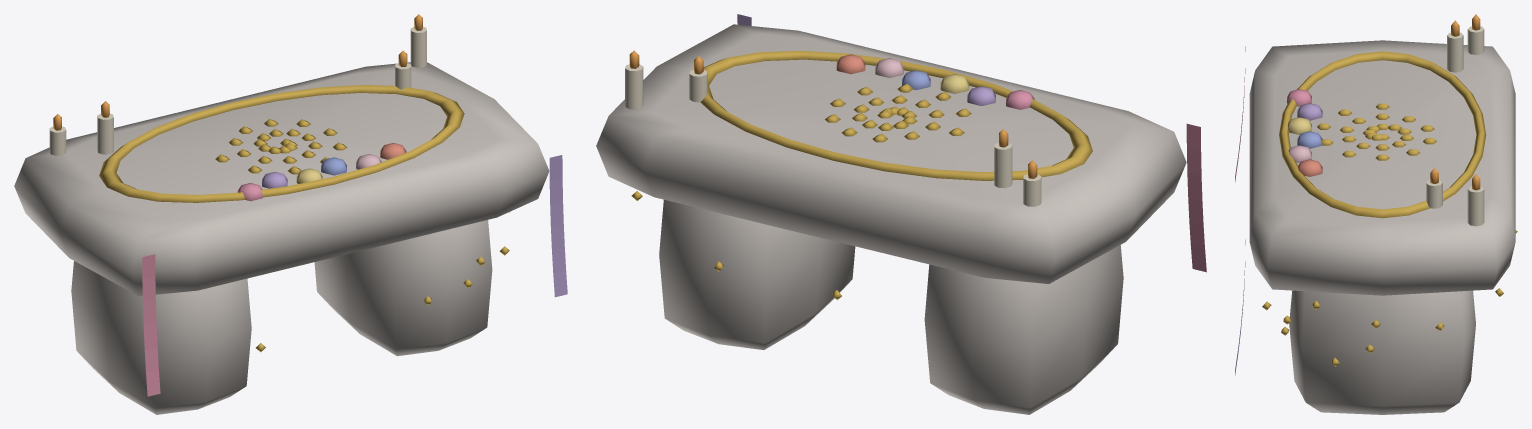
File: rite_altar_stone.gltf
3 renders of one model, left to right at view 1: azimuth 30°, elevation 25°; view 2: azimuth 150°, elevation 25°; view 3: azimuth 270°, elevation 25°, orthographic. The views are drawn at different scales.
Parts seen in each view (by area): view 1: rite_altar_stone; view 2: rite_altar_stone; view 3: rite_altar_stone.
Part boxes in pixels (x1,y1,x2,y2): rite_altar_stone: [14, 14, 567, 414]; rite_altar_stone: [596, 14, 1206, 414]; rite_altar_stone: [1235, 14, 1517, 414].
Size of what is drawn, in the model's own units: 2.43 by 1.36 by 1.36.
